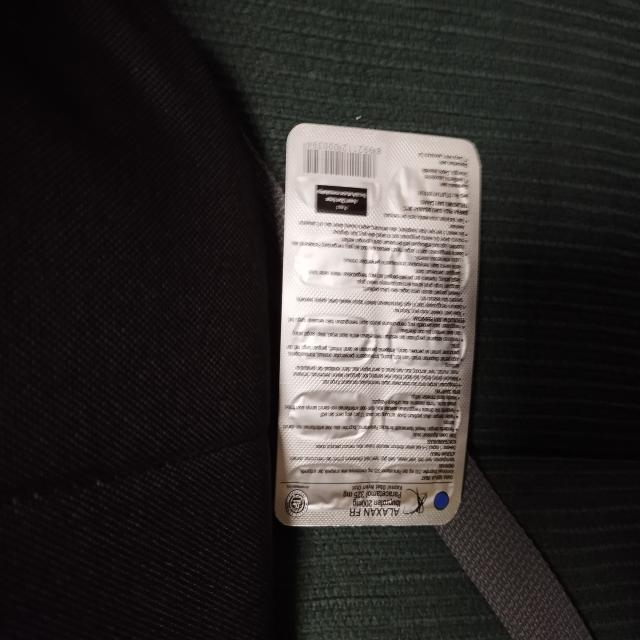B3: (276, 124, 482, 527)
